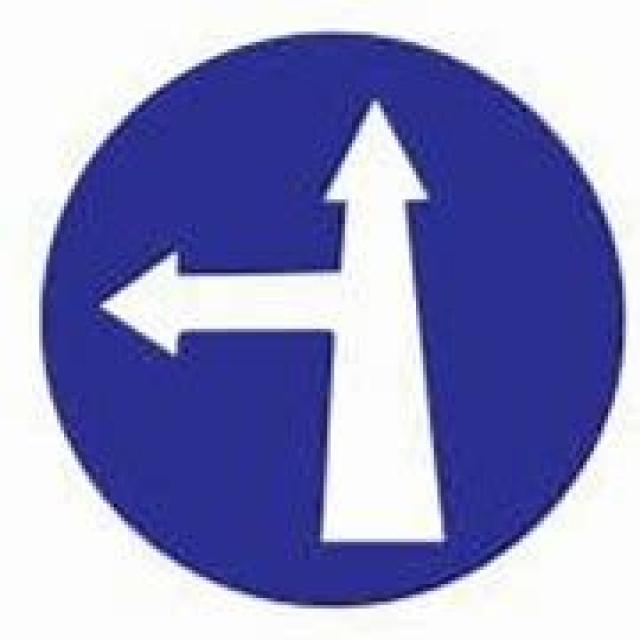COMPULSARY_AHEAD_OR_TURN_LEFT: (36, 26, 626, 613)
